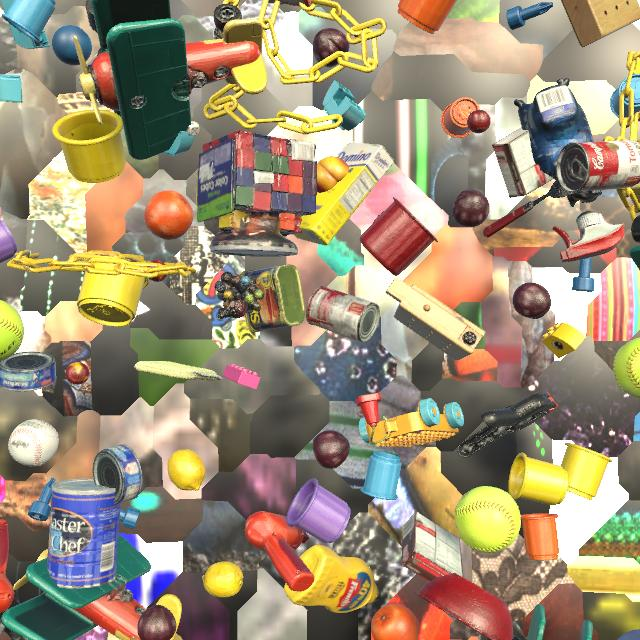ycb_002_master_chef_can: (47, 478, 121, 589)
ycb_004_sugar_box: (293, 142, 394, 245)
ycb_005_tomato_soup_can: (556, 140, 640, 192), (306, 286, 380, 342)
ycb_006_mustard_bottle: (284, 545, 379, 613)
ycb_007_tuna_fish_can: (93, 444, 143, 504), (0, 352, 57, 391)
ycb_008_pudding_box: (401, 511, 463, 582), (492, 127, 553, 198)
ycb_009_gelatin_box: (268, 0, 311, 7)
ycb_010_potted_meat_can: (240, 264, 305, 332)
ycb_014_lemon: (167, 449, 206, 491), (202, 561, 243, 598)
ycb_015_peach: (317, 156, 349, 193)
ycb_017_orange: (144, 190, 194, 240), (371, 603, 419, 640)
ycb_018_plum: (312, 430, 350, 469), (452, 189, 490, 227), (313, 28, 350, 67), (512, 282, 551, 319), (137, 605, 176, 640)
